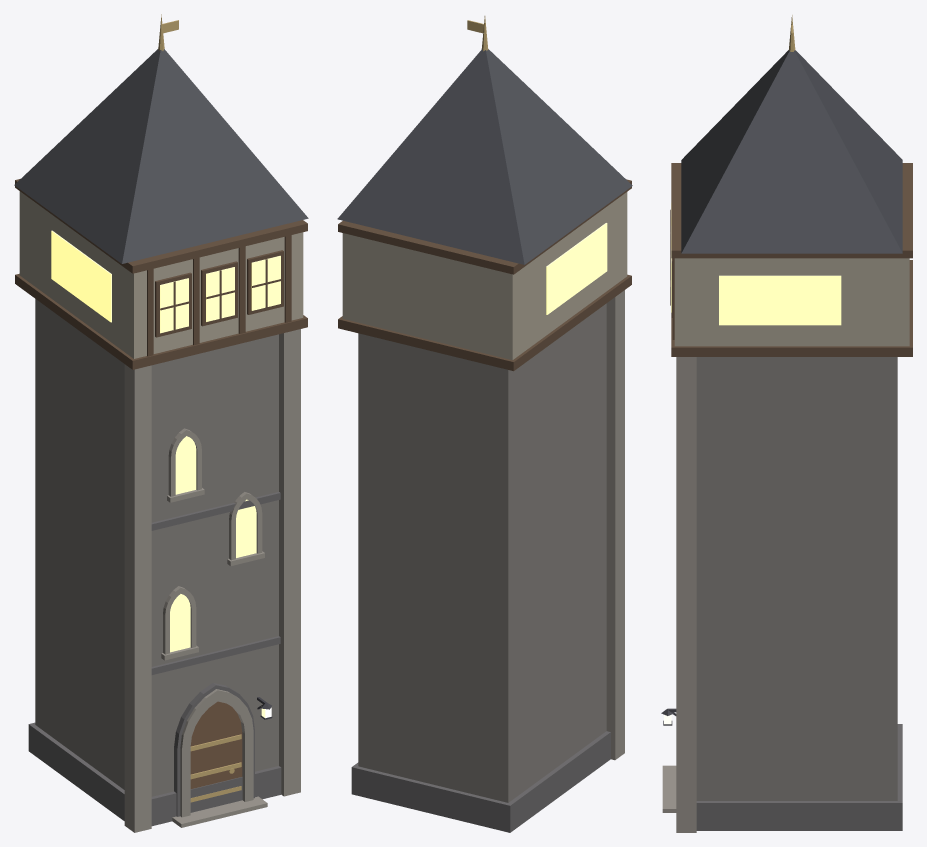
File: tower_door.glb
3 views of the same model, side by side, from view 1: azimuth 30°, elevation 25°; view 2: azimuth 150°, elevation 25°; view 3: azimuth 270°, elevation 25° (orthographic). The views are drawn at different scales.
Parts seen in each view (by area): view 1: Upper, Plinth; view 2: Upper, Plinth; view 3: Upper, Plinth.
Boxes of the visible parts, left/top/right/bottom form: Upper: left=14, top=14, right=308, bottom=832; Plinth: left=28, top=722, right=281, bottom=827; Upper: left=337, top=16, right=632, bottom=802; Plinth: left=351, top=731, right=610, bottom=832; Upper: left=661, top=15, right=912, bottom=832; Plinth: left=662, top=724, right=902, bottom=830.
Bounding box in the file's own units: 6.51 × 25.2 × 7.4.
